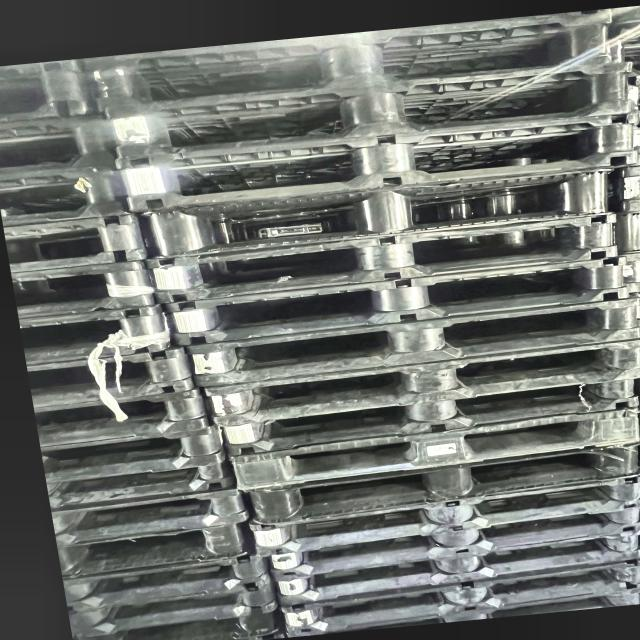igps: (77, 2, 622, 128), (108, 103, 640, 222), (99, 53, 640, 169), (133, 156, 623, 272), (140, 205, 632, 310), (160, 248, 637, 352), (182, 289, 640, 393), (201, 334, 640, 432), (222, 402, 640, 495), (240, 438, 640, 530), (245, 469, 640, 562), (268, 518, 640, 610), (275, 552, 640, 640), (265, 502, 640, 586), (326, 579, 640, 640), (56, 544, 280, 618), (63, 568, 283, 640), (36, 447, 238, 516), (46, 483, 254, 550), (32, 380, 221, 453), (22, 338, 202, 414), (51, 516, 255, 583), (38, 421, 230, 488), (0, 208, 168, 279), (16, 299, 180, 371), (8, 255, 164, 326), (0, 162, 140, 232), (0, 109, 123, 183), (0, 56, 105, 131)
